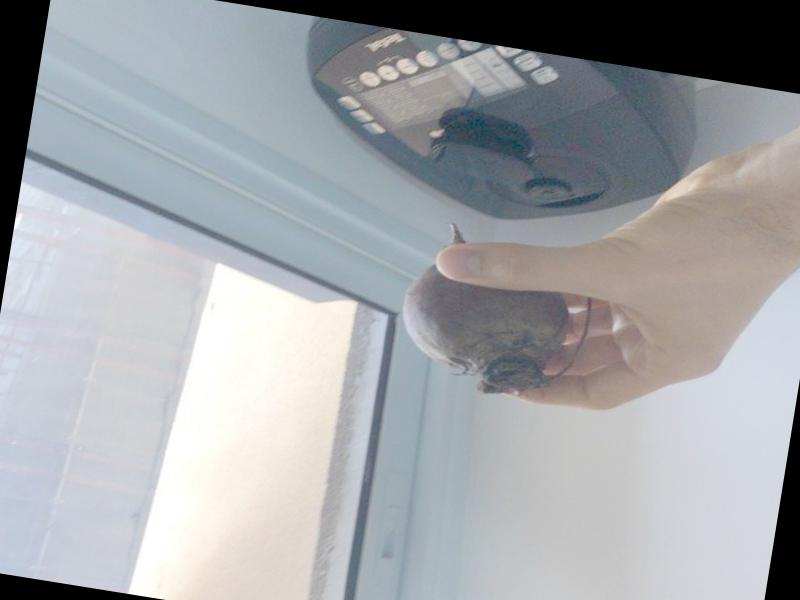Beet: (391, 218, 598, 407)
